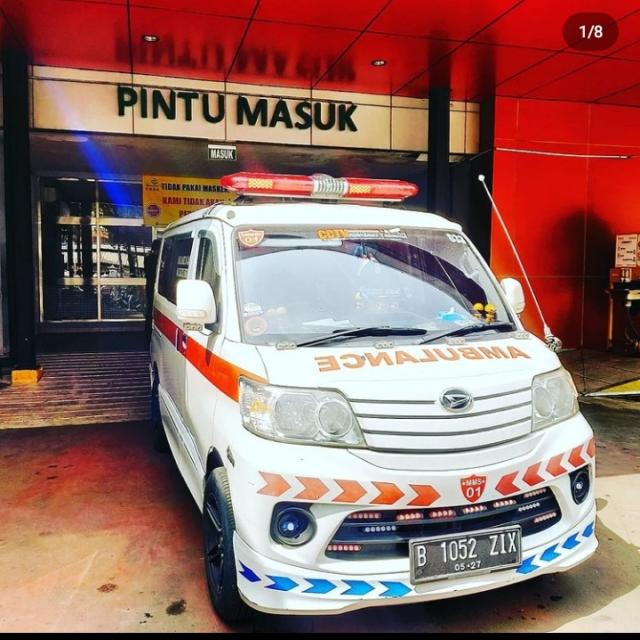emergency-vehicle: (136, 166, 611, 639)
